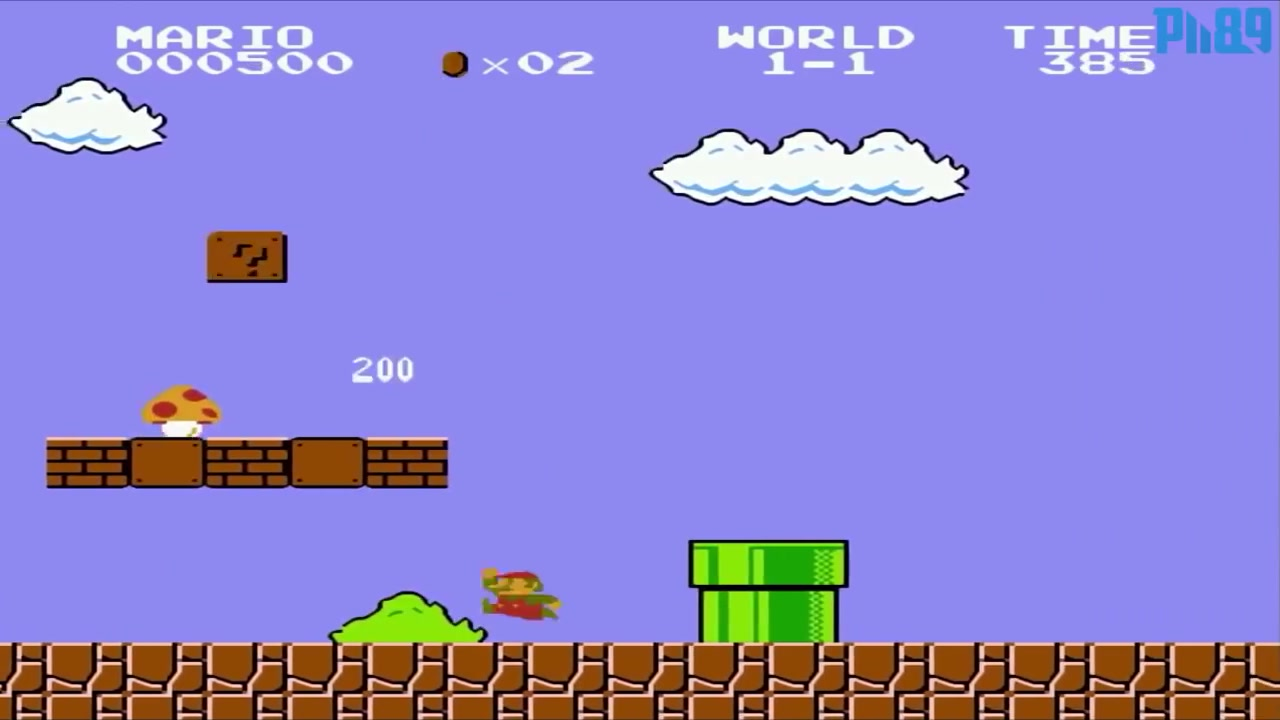mario: (466, 559, 566, 627)
